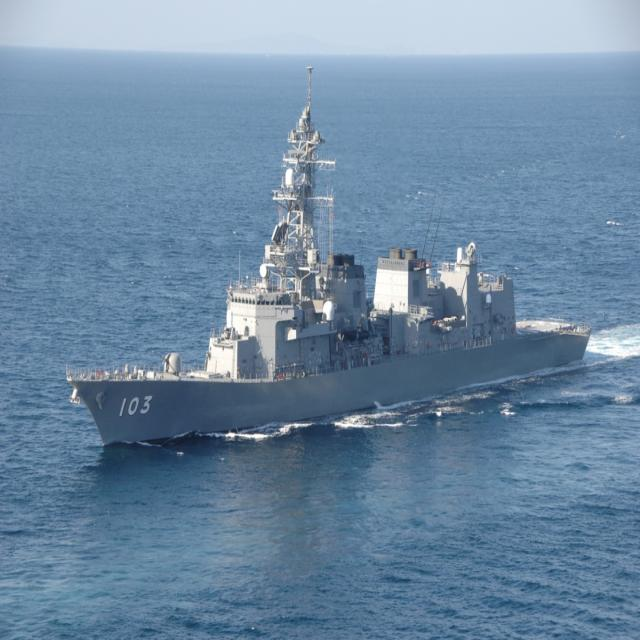navalvessels: (59, 110, 611, 449)
